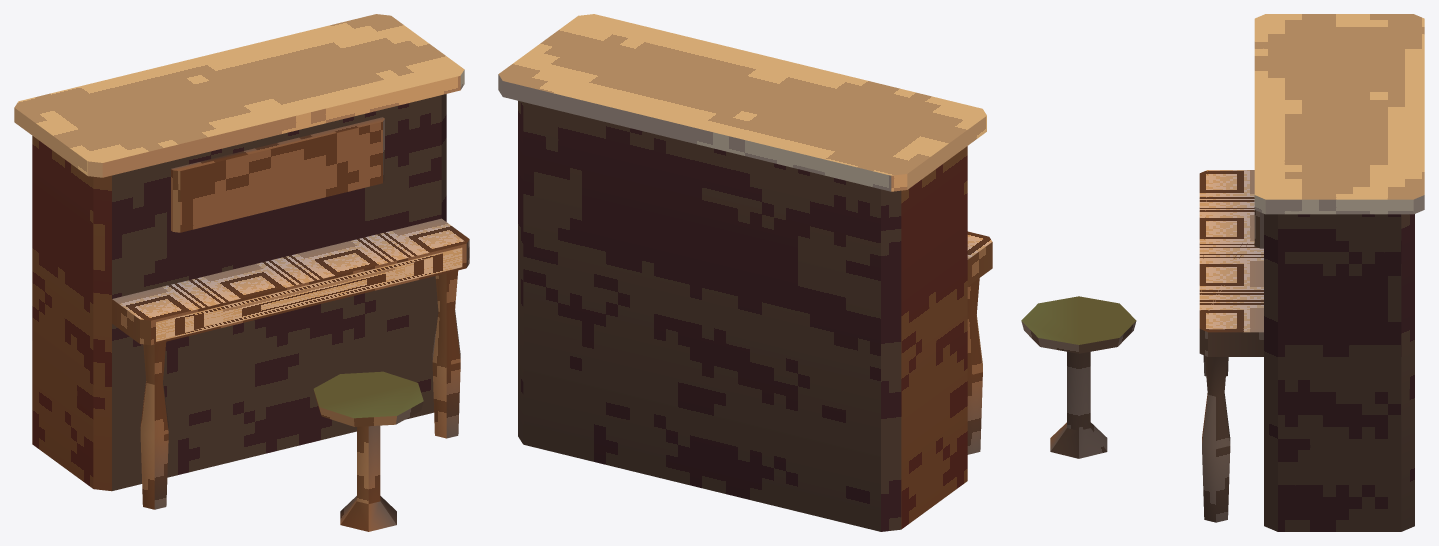
File: wprop.piano.glb
3 views of the same model, side by side, from view 1: azimuth 30°, elevation 25°; view 2: azimuth 150°, elevation 25°; view 3: azimuth 270°, elevation 25° (orthographic). The views are drawn at different scales.
Visible parts, largest first — view 1: kit_cabinet, kit_top_trim, kit_rest, kit_keyshelf, kit_stool, kit_legs, kit_card_keys; view 2: kit_cabinet, kit_top_trim, kit_legs, kit_keyshelf; view 3: kit_cabinet, kit_top_trim, kit_keyshelf, kit_stool, kit_legs.
Part boxes in pixels (<box>): kit_cabinet: <box>32,94,446,491</box>; kit_top_trim: <box>14,14,464,177</box>; kit_rest: <box>171,117,384,232</box>; kit_keyshelf: <box>112,218,469,345</box>; kit_stool: <box>313,371,423,531</box>; kit_legs: <box>140,270,460,509</box>; kit_card_keys: <box>156,247,462,341</box>; kit_cabinet: <box>518,101,967,531</box>; kit_top_trim: <box>498,14,986,191</box>; kit_legs: <box>967,278,982,454</box>; kit_keyshelf: <box>967,231,992,286</box>; kit_cabinet: <box>1264,214,1414,531</box>; kit_top_trim: <box>1254,14,1424,214</box>; kit_keyshelf: <box>1199,170,1263,356</box>; kit_stool: <box>1021,296,1136,458</box>; kit_legs: <box>1202,355,1230,522</box>.
Bounding box in the file's own units: 1.6 × 1.36 × 1.47.
5 materials, 5 textured.
